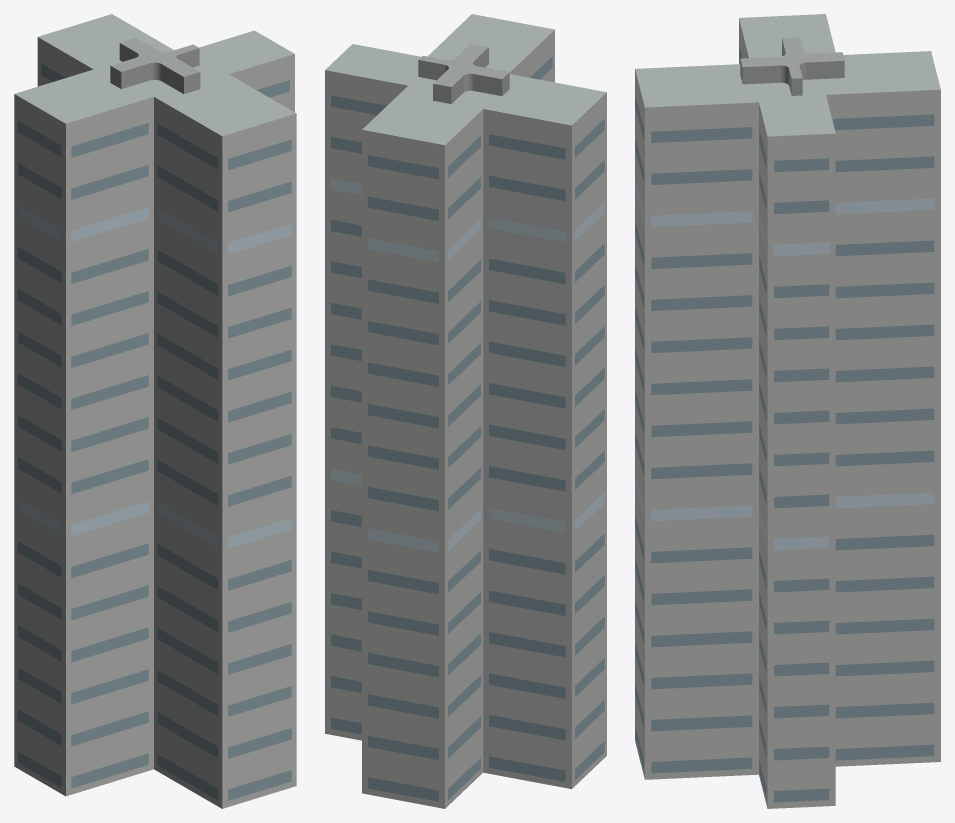
File: fallback-acro-riverview-104.glb
3 views of the same model, side by side, from view 1: azimuth 30°, elevation 25°; view 2: azimuth 150°, elevation 25°; view 3: azimuth 270°, elevation 25° (orthographic).
Parts seen in each view (by area): view 1: fallback-acro-riverview-104; view 2: fallback-acro-riverview-104; view 3: fallback-acro-riverview-104.
Boxes of the visible parts, x1=… form: fallback-acro-riverview-104: x1=14, y1=14, x2=296, y2=808; fallback-acro-riverview-104: x1=325, y1=14, x2=606, y2=808; fallback-acro-riverview-104: x1=635, y1=14, x2=940, y2=808.
Size of the model in its own units: 36.63 by 96 by 38.58.
